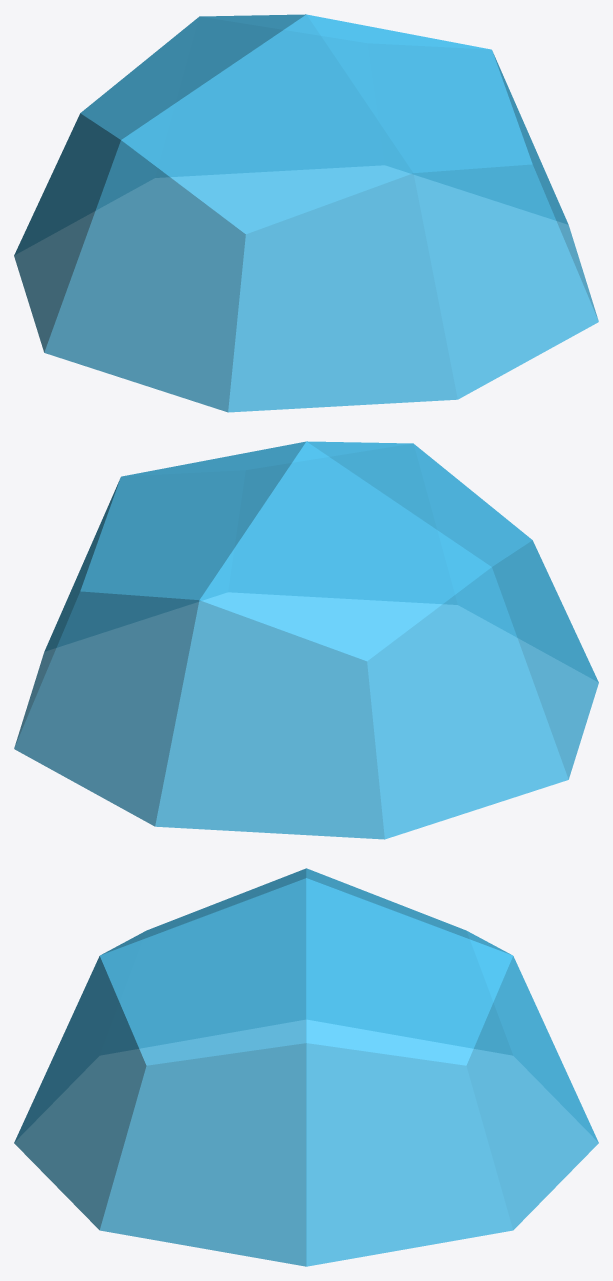
The model's file is PseudoDeltoidalIcositetrahedron.obj.
3 views of the same model, one above another, from view 1: azimuth 30°, elevation 25°; view 2: azimuth 150°, elevation 25°; view 3: azimuth 270°, elevation 25° (orthographic). The views are drawn at different scales.
Bounding box in the file's own units: 2.83 × 1.41 × 2.83.
